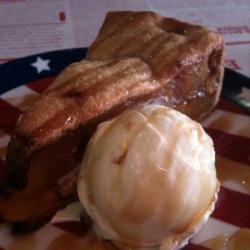apple_pie: (17, 8, 223, 217)
icecream: (76, 102, 226, 249)
